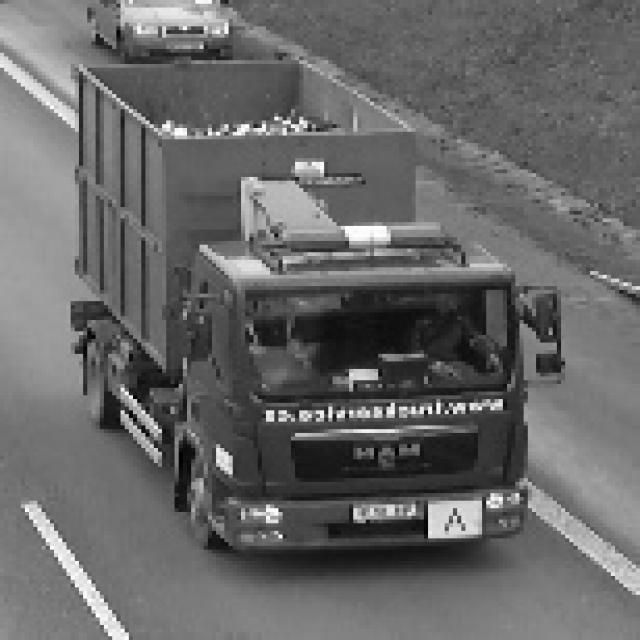truck: (157, 208, 576, 570)
